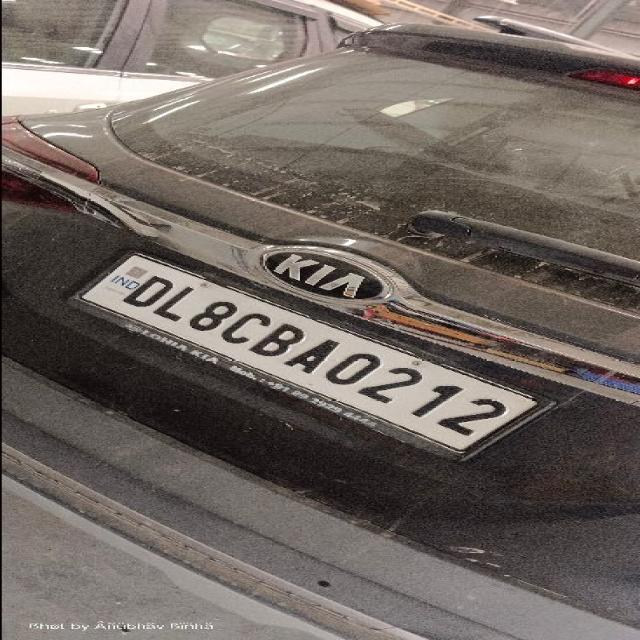license_plate: (66, 248, 556, 462)
